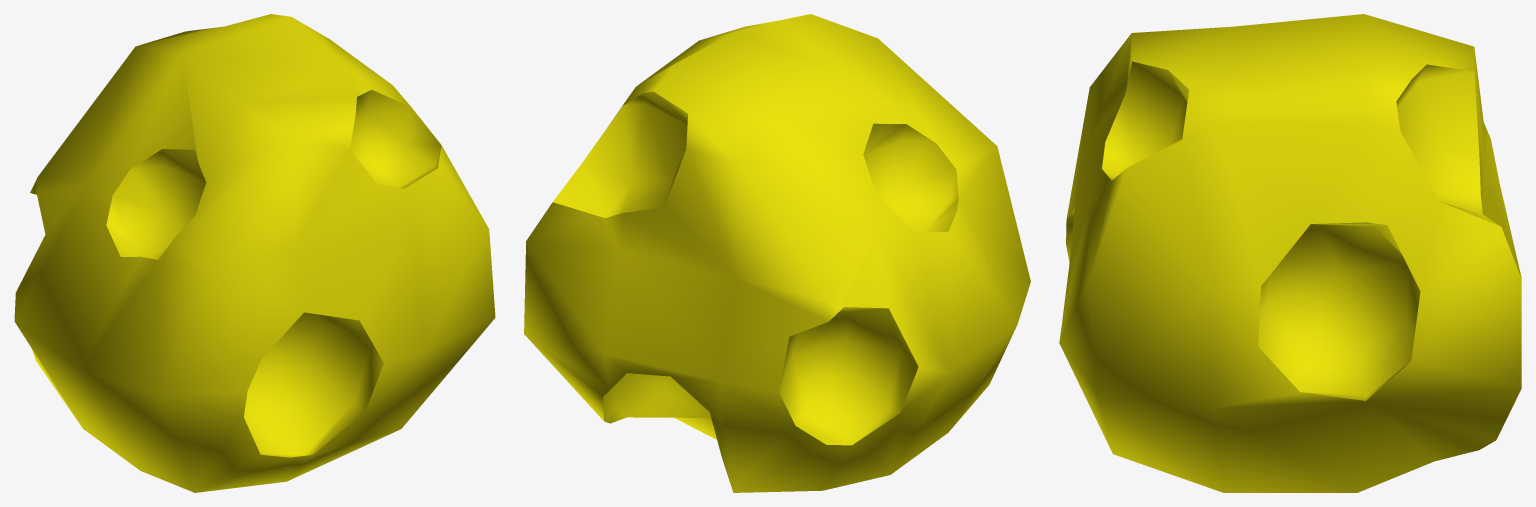
The picture shows the model from 3 angles, left to right: view 1: azimuth 30°, elevation 25°; view 2: azimuth 150°, elevation 25°; view 3: azimuth 270°, elevation 25°; orthographic projection. The views are drawn at different scales.
Parts seen in each view (by area): view 1: cheeeeese; view 2: cheeeeese; view 3: cheeeeese.
Part boxes in pixels (left/top/right/bottom): cheeeeese: left=14, top=14, right=495, bottom=492; cheeeeese: left=524, top=14, right=1030, bottom=492; cheeeeese: left=1059, top=14, right=1521, bottom=492.
Size of the model in its own units: 1.14 by 1.07 by 1.
